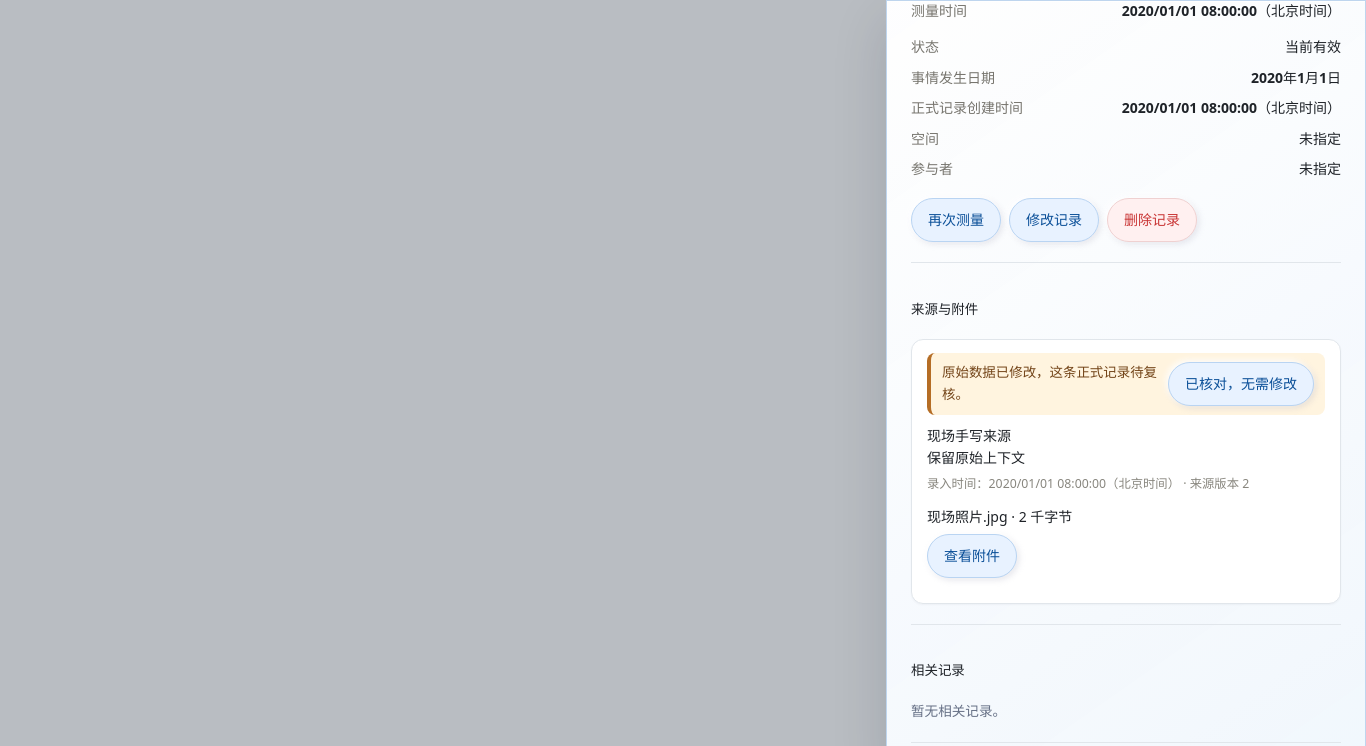
普通来源保留就地原文、附件和复核动作，不提供来源跳转
(page scrolled)
expect the text "现场手写来源 保留原始上下文" is shown: met, box [927,426,1025,467]
expect the button "查看附件" is shown: met, box [927,534,1017,578]
Step 1. Click the button "已核对，无需修改" → x=1241, y=384, box [1168,362,1314,406]
(page scrolled)
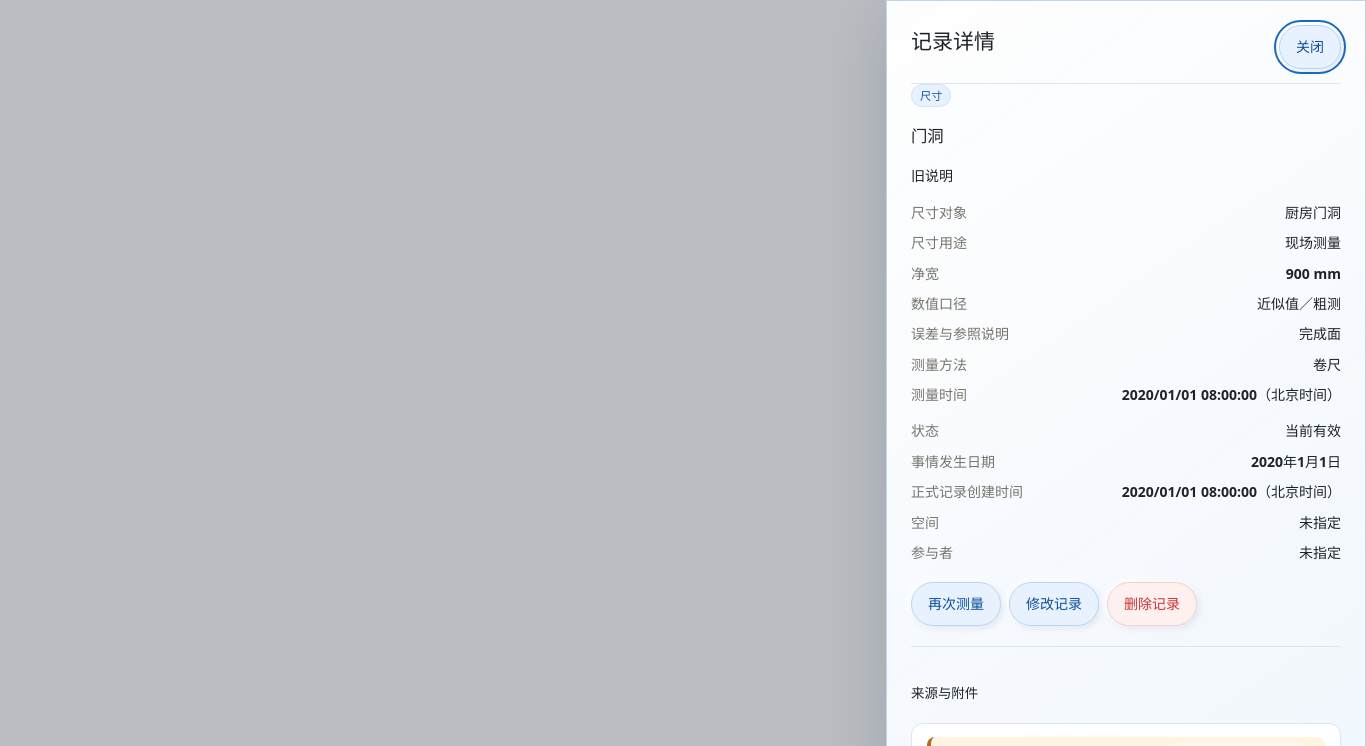
expect the text "旧说明" is shown: met, box [911,166,953,185]
